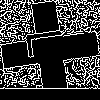L: (25, 25, 75, 59)
